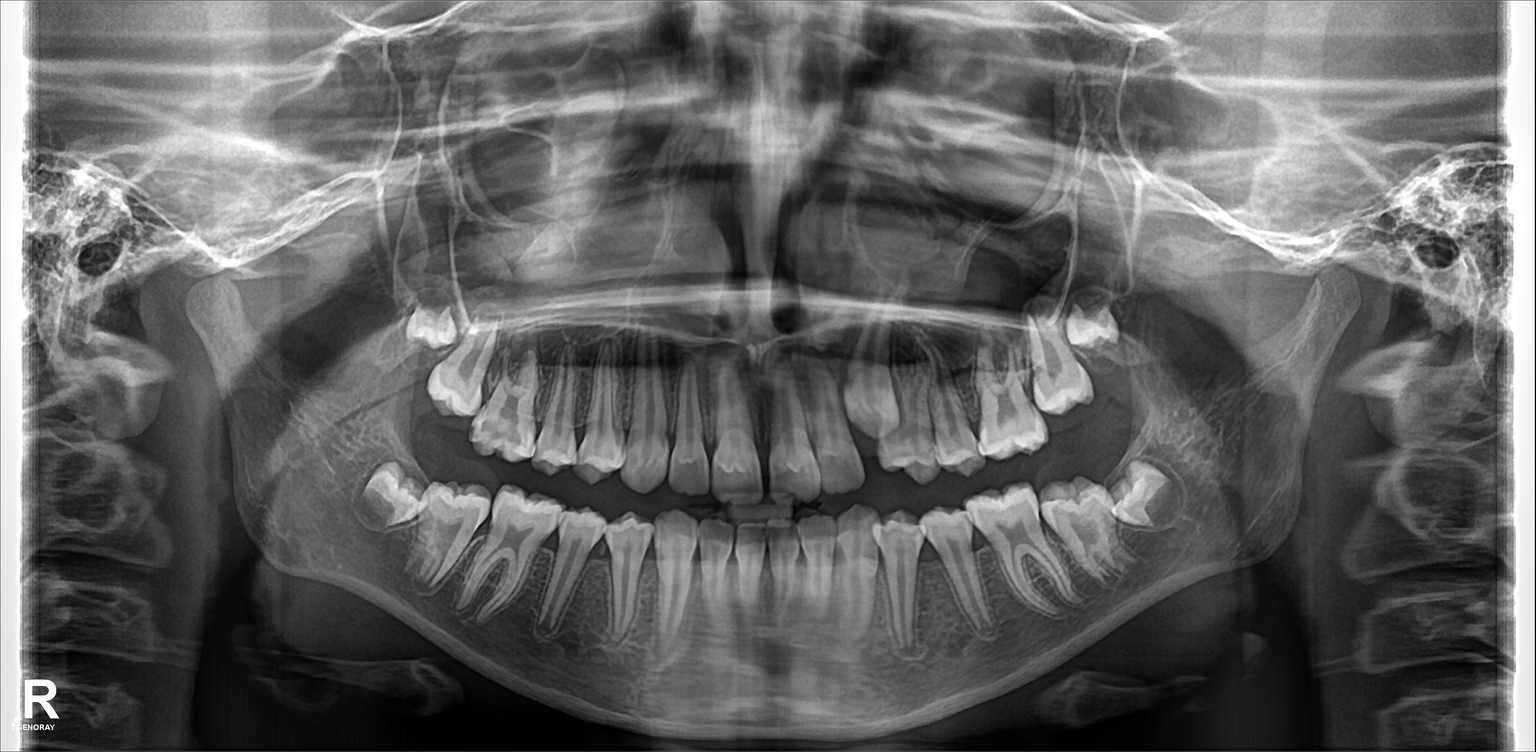Dental Caries: (674, 456, 705, 495)
Impacted Third Molar: (350, 456, 426, 527), (1067, 298, 1123, 375), (1125, 463, 1178, 527), (404, 307, 457, 350)
